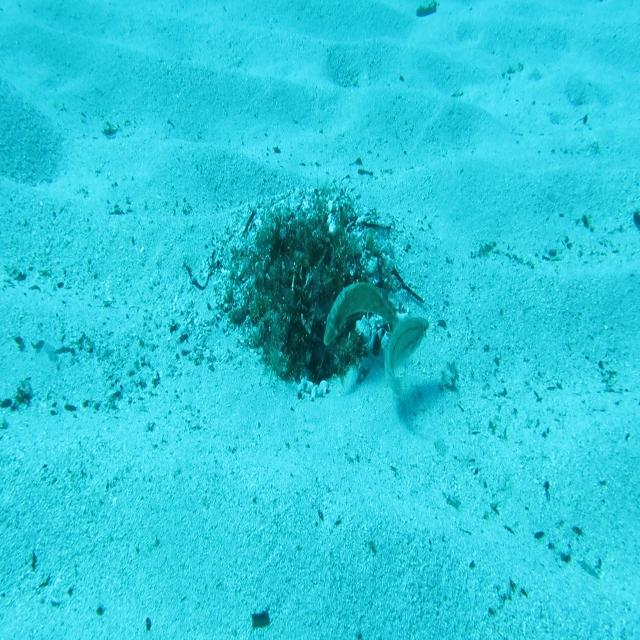BK_SW: (322, 279, 402, 349)
core_nest: (280, 230, 333, 272)
female: (383, 314, 431, 412)
nest: (211, 180, 419, 410)
vegetation: (418, 0, 438, 21)
